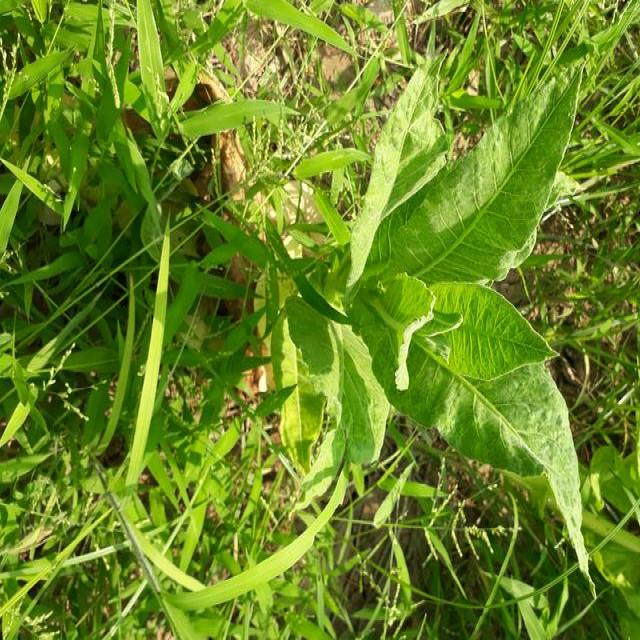crop: (272, 79, 602, 538)
